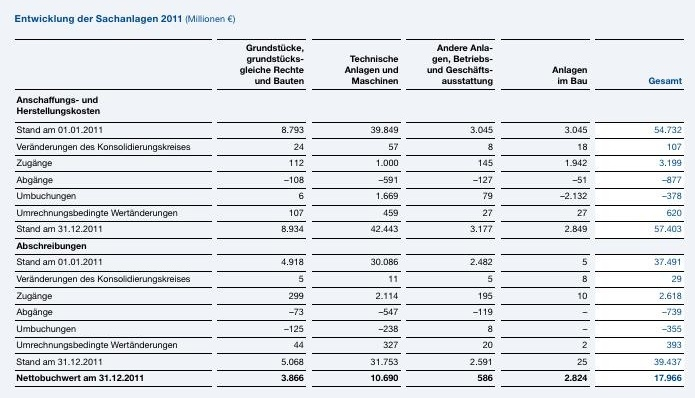table: (0, 0, 695, 398)
